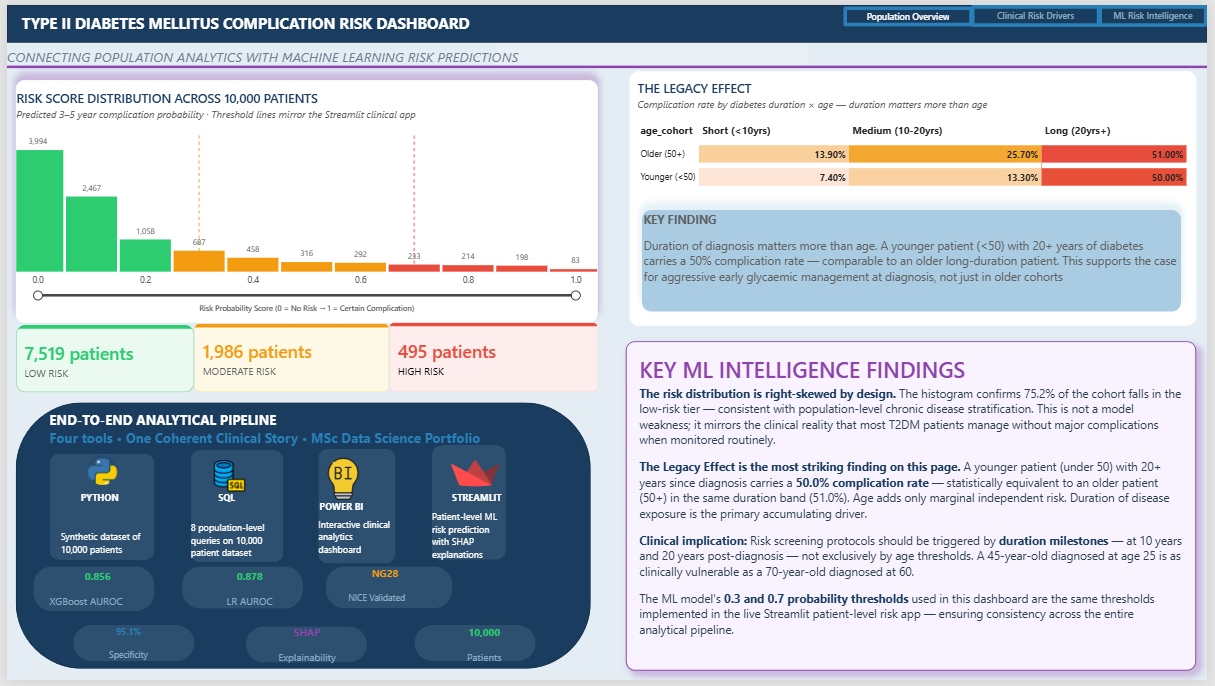

This screenshot's page, from the dashboard's own definition file:
{"tool":"powerbi","page":{"name":"ML Risk Intelligence","canvas":[1920,1080],"ordinal":2},"visuals":[{"type":"shape","box":[785.7,0,494.3,101.4],"z":0},{"type":"columnChart","title":"RISK SCORE DISTRIBUTION ACROSS 10,000 PATIENTS","fields":{"Category":["Risk Distribution.risk_bucket"],"Y":["Sum(Risk Distribution.patient_count)"]},"box":[14.7,120,931.3,388.9],"z":0,"group":"g1"},{"type":"shape","box":[0,0,1920,60],"z":1000},{"type":"cardVisual","fields":{"Data":["_Measure.Low Risk Count"]},"box":[14,512,286.5,108],"z":1000,"group":"g1"},{"type":"textbox","box":[0,12,764,48],"z":2000},{"type":"cardVisual","fields":{"Data":["_Measure.High Risk Count"]},"box":[611.9,508.9,333.1,111.1],"z":2000,"group":"g1"},{"type":"textbox","box":[0,68,1222,52],"z":3000},{"type":"cardVisual","fields":{"Data":["_Measure.Moderate Risk Count"]},"box":[300.5,510.4,311.4,109.6],"z":3000,"group":"g1"},{"type":"shape","box":[0,78,1920,42],"z":4000},{"type":"shape","box":[645,203.3,13.3,246.7],"z":5000},{"type":"shape","box":[300,203,12,215],"z":6000},{"type":"textbox","box":[311.7,216.7,83.3,20],"z":7000},{"type":"shape","box":[14,636,920,426],"z":8000},{"type":"textbox","box":[658.3,216.7,85,20],"z":9000},{"type":"group","id":"g1","title":"Group 1","box":[14,120,932,500],"z":10000},{"type":"pivotTable","title":"THE LEGACY EFFECT","fields":{"Columns":["Legacy Effects.duration_cohort"],"Rows":["Legacy Effects.age_cohort"],"Values":["_Measure.Complication Rate Legacy %"]},"box":[995,105,907.5,407.5],"z":11000},{"type":"textbox","box":[1015,327.5,862.5,162.5],"z":12000},{"type":"textbox","box":[68,648,818,60],"z":13000},{"type":"textbox","box":[68,678,832,94],"z":14000},{"type":"shape","box":[68,718,168,170],"z":15000},{"type":"shape","box":[293.1,712.7,148.2,180],"z":16000},{"type":"shape","box":[679.1,704.5,118.2,183.6],"z":17000},{"type":"shape","box":[498.4,710,123.6,183.6],"z":18000},{"type":"image","box":[120,720,66,48],"z":19000},{"type":"image","box":[294,728,124,50],"z":20000},{"type":"image","box":[500,724,76,68],"z":21000},{"type":"image","box":[664,706,170,86],"z":22000},{"type":"textbox","box":[338,778,54,58],"z":23000},{"type":"textbox","box":[118,778,66,28],"z":24000},{"type":"textbox","box":[500,792,94,20],"z":25000},{"type":"textbox","box":[712,778,94,82],"z":26000},{"type":"textbox","box":[86.8,839.6,136,42],"z":27000},{"type":"textbox","box":[293.6,826.4,124.5,85.5],"z":28000},{"type":"textbox","box":[497.5,820,122.5,77.5],"z":29000},{"type":"textbox","box":[679.1,807.3,118.2,85.5],"z":30000},{"type":"shape","box":[42,898,194,72],"z":31000},{"type":"shape","box":[106,991.8,194,58],"z":32000},{"type":"shape","box":[382,994,194,58],"z":33000},{"type":"shape","box":[280,898,193.6,68.2],"z":34000},{"type":"shape","box":[510,897.5,202.5,67.5],"z":35000},{"type":"shape","box":[652,991.8,194,58],"z":36000},{"type":"textbox","box":[68,902,154,90],"z":37000},{"type":"textbox","box":[680,992.5,167.5,67.5],"z":38000},{"type":"textbox","box":[365.5,991.8,228.2,70.9],"z":39000},{"type":"textbox","box":[107.5,992.5,172.5,87.5],"z":40000},{"type":"textbox","box":[546.4,898.2,117.3,61.8],"z":41000},{"type":"textbox","box":[300.9,901.8,176.4,76.4],"z":42000},{"type":"textbox","title":"  KEY ML INTELLIGENCE FINDINGS","box":[990,537.5,912.5,527.5],"z":43000},{"type":"actionButton","title":"Population Overview","box":[1337.5,1.7,207.5,32.5],"z":43001},{"type":"actionButton","box":[1541.2,0.4,207.5,35],"z":43002},{"type":"actionButton","box":[1745,0.4,175,35],"z":43003}]}

Visuals, with their boxes in screenshot pixels (x1, y1, x2, y2), scaled from the page's 1920x1080 canvas onto the 1215x686 screenshot:
shape: locate(497, 0, 810, 64)
"RISK SCORE DISTRIBUTION ACROSS 10,000 PATIENTS" columnChart: locate(9, 76, 599, 323)
shape: locate(0, 0, 1214, 38)
cardVisual - _Measure.Low Risk Count: locate(9, 325, 190, 394)
textbox: locate(0, 8, 483, 38)
cardVisual - _Measure.High Risk Count: locate(387, 323, 598, 394)
textbox: locate(0, 43, 773, 76)
cardVisual - _Measure.Moderate Risk Count: locate(190, 324, 387, 394)
shape: locate(0, 50, 1214, 76)
shape: locate(408, 129, 417, 286)
shape: locate(190, 129, 197, 266)
textbox: locate(197, 138, 250, 150)
shape: locate(9, 404, 591, 675)
textbox: locate(417, 138, 470, 150)
"Group 1" group: locate(9, 76, 599, 394)
"THE LEGACY EFFECT" pivotTable: locate(630, 67, 1204, 326)
textbox: locate(642, 208, 1188, 311)
textbox: locate(43, 412, 561, 450)
textbox: locate(43, 431, 570, 490)
shape: locate(43, 456, 149, 564)
shape: locate(185, 453, 279, 567)
shape: locate(430, 447, 505, 564)
shape: locate(315, 451, 394, 568)
image: locate(76, 457, 118, 488)
image: locate(186, 462, 265, 494)
image: locate(316, 460, 364, 503)
image: locate(420, 448, 528, 503)
textbox: locate(214, 494, 248, 531)
textbox: locate(75, 494, 116, 512)
textbox: locate(316, 503, 376, 516)
textbox: locate(451, 494, 510, 546)
textbox: locate(55, 533, 141, 560)
textbox: locate(186, 525, 265, 579)
textbox: locate(315, 521, 392, 570)
textbox: locate(430, 513, 505, 567)
shape: locate(27, 570, 149, 616)
shape: locate(67, 630, 190, 667)
shape: locate(242, 631, 364, 668)
shape: locate(177, 570, 300, 614)
shape: locate(323, 570, 451, 613)
shape: locate(413, 630, 535, 667)
textbox: locate(43, 573, 140, 630)
textbox: locate(430, 630, 536, 673)
textbox: locate(231, 630, 376, 675)
textbox: locate(68, 630, 177, 685)
textbox: locate(346, 571, 420, 610)
textbox: locate(190, 573, 302, 621)
"  KEY ML INTELLIGENCE FINDINGS" textbox: locate(626, 341, 1204, 676)
"Population Overview" actionButton: locate(846, 1, 978, 22)
actionButton: locate(975, 0, 1107, 22)
actionButton: locate(1104, 0, 1214, 22)
